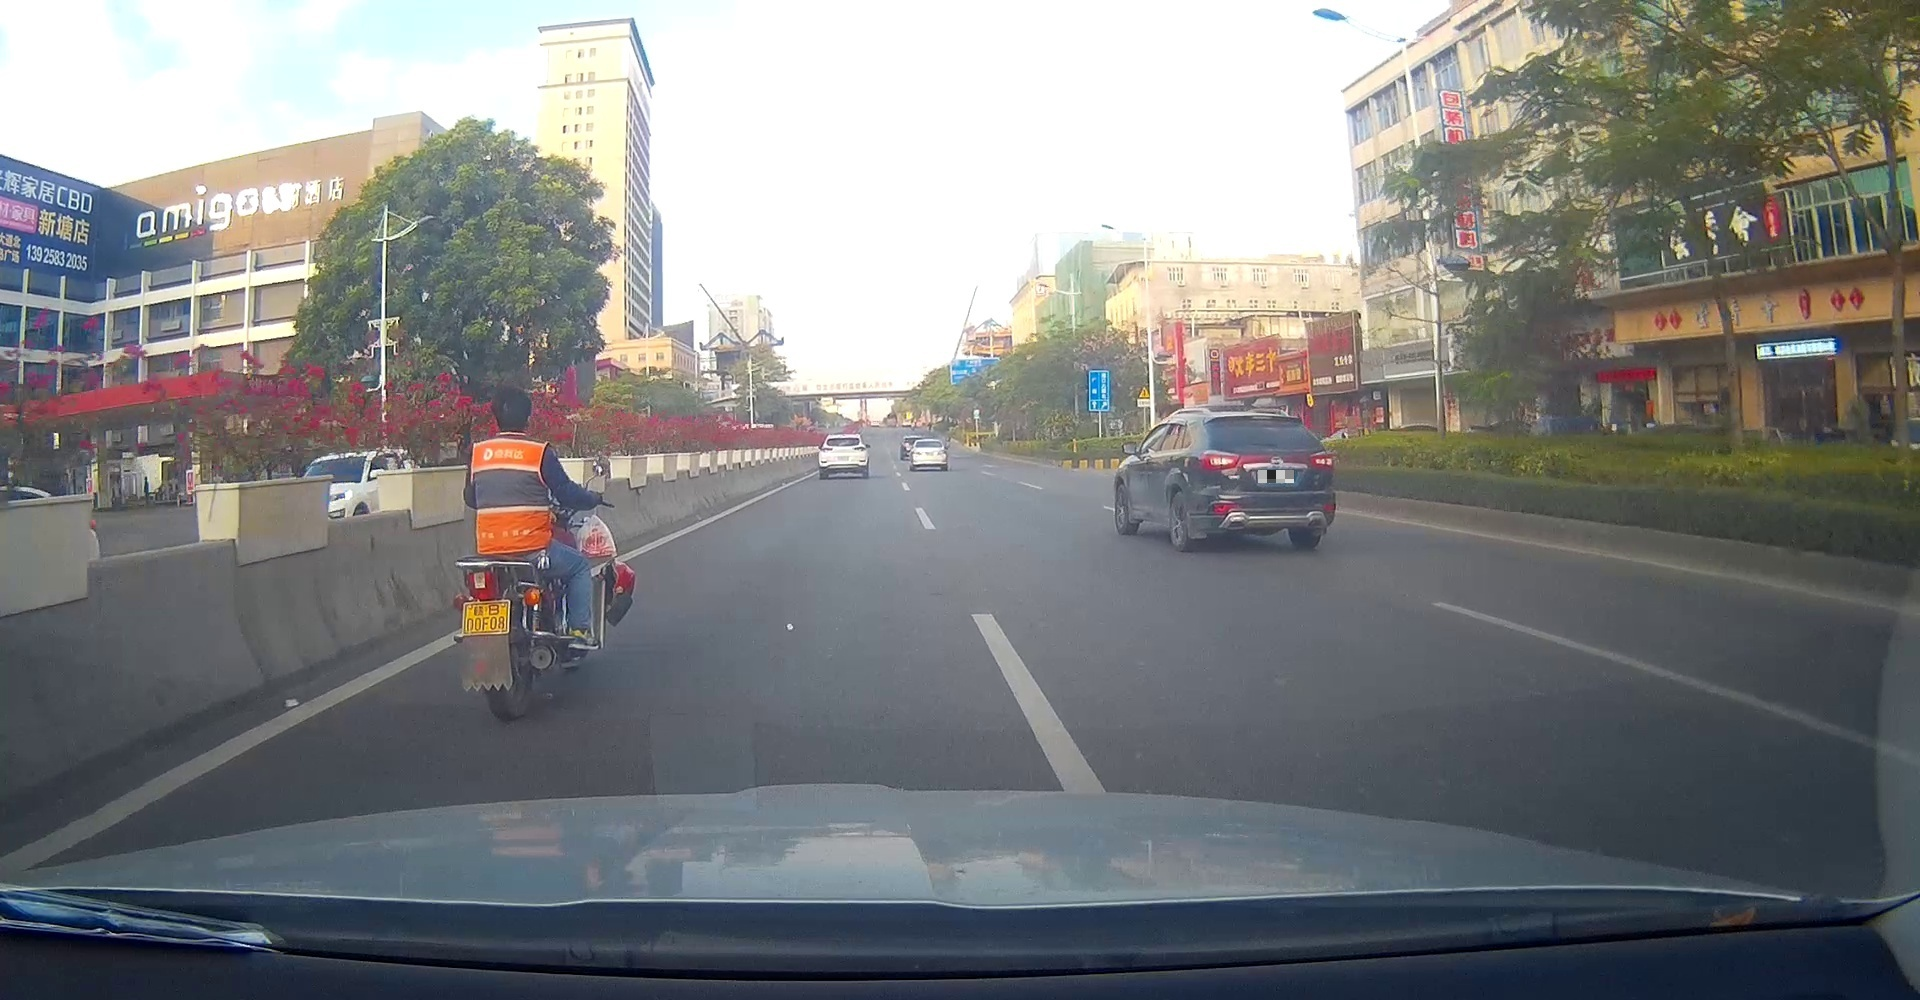L_light: (1200, 451, 1241, 470), (820, 447, 833, 452), (910, 451, 921, 456)
R_light: (1309, 451, 1333, 470), (855, 445, 865, 452), (937, 451, 947, 456)
T_light: (1250, 420, 1270, 425), (839, 438, 847, 440), (924, 442, 931, 443)
day-brake: (1197, 411, 1335, 549)
day-no: (819, 433, 869, 478), (910, 439, 949, 471)
plate_1: (1258, 470, 1294, 484)
